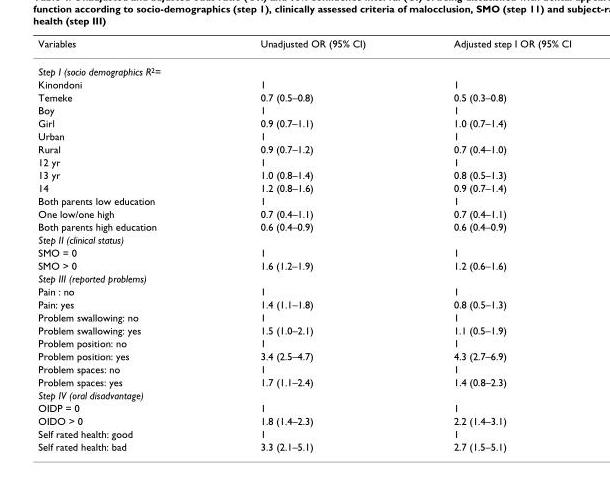table: (37, 36, 570, 452)
table column: (209, 36, 408, 452), (37, 36, 209, 452), (408, 36, 570, 452)
table column header: (37, 36, 570, 56)
table projected row header: (37, 56, 570, 77), (37, 232, 570, 245), (37, 271, 570, 284), (37, 388, 570, 401)
table row: (37, 56, 570, 77), (37, 36, 570, 56), (37, 77, 570, 90), (37, 90, 570, 103), (37, 103, 570, 116), (37, 116, 570, 129), (37, 129, 570, 142), (37, 142, 570, 155), (37, 155, 570, 168), (37, 180, 570, 193), (37, 193, 570, 206), (37, 206, 570, 219), (37, 219, 570, 232), (37, 232, 570, 245), (37, 245, 570, 258), (37, 258, 570, 271), (37, 271, 570, 284), (37, 284, 570, 297), (37, 297, 570, 310), (37, 310, 570, 323), (37, 323, 570, 336), (37, 336, 570, 349), (37, 349, 570, 362), (37, 362, 570, 375), (37, 375, 570, 388), (37, 388, 570, 401), (37, 413, 570, 426), (37, 426, 570, 439), (37, 439, 570, 452), (37, 168, 570, 180), (37, 401, 570, 413)
